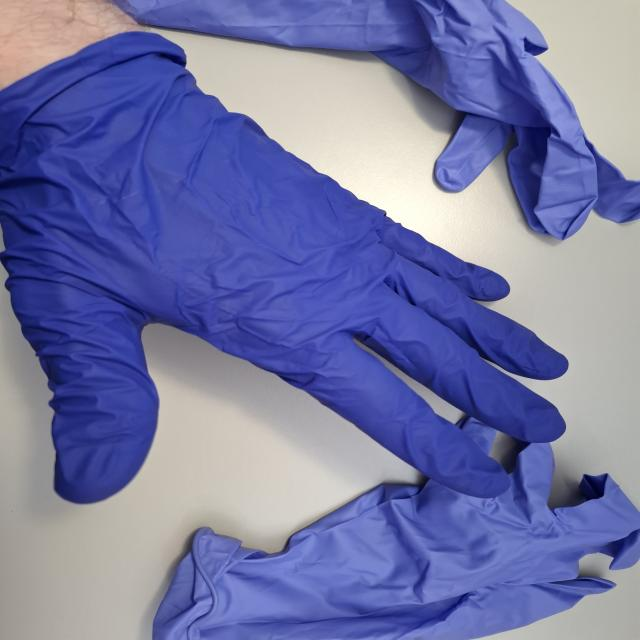glove_on: (0, 32, 575, 507)
